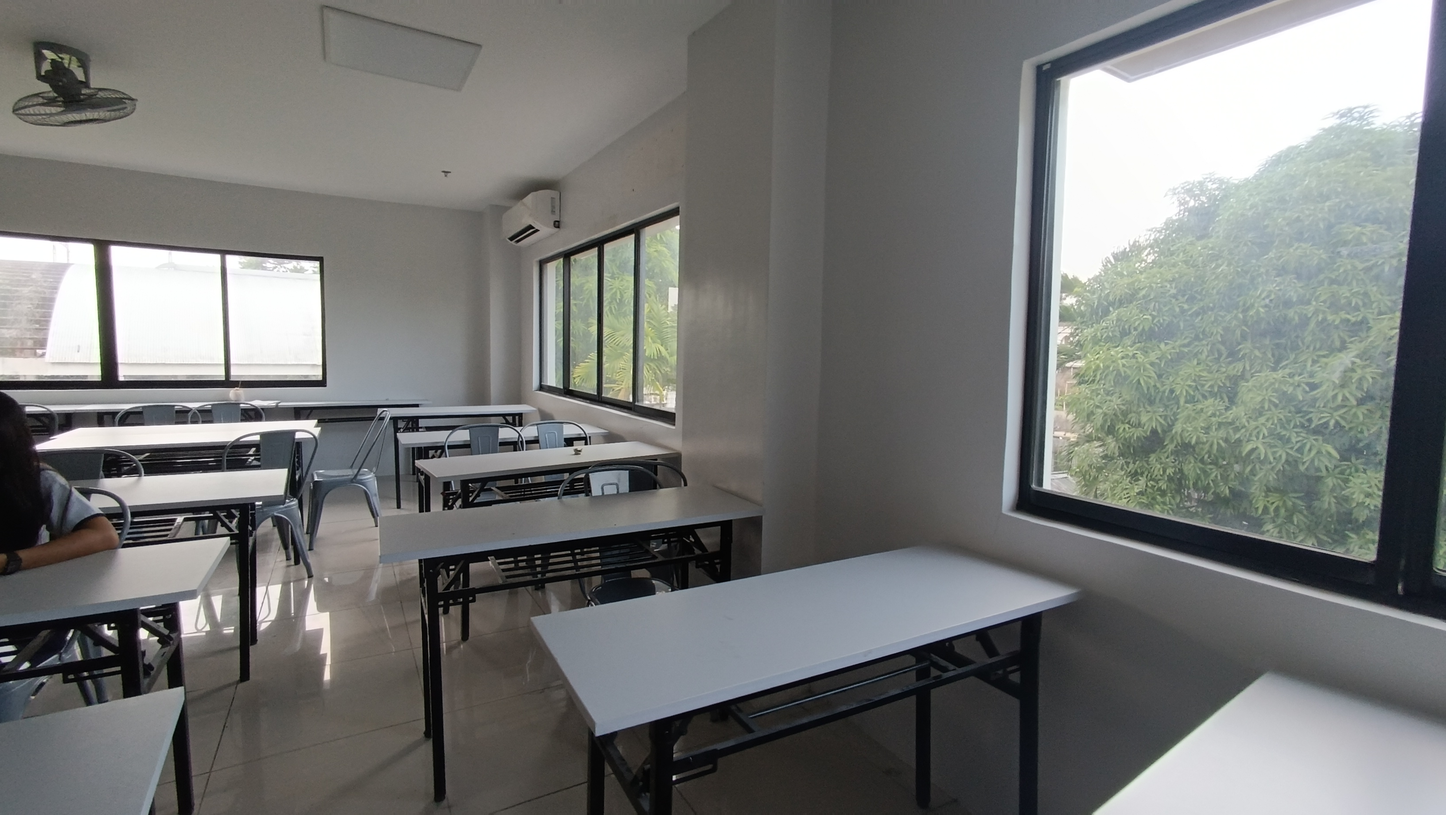with-student: (1, 382, 230, 694)
